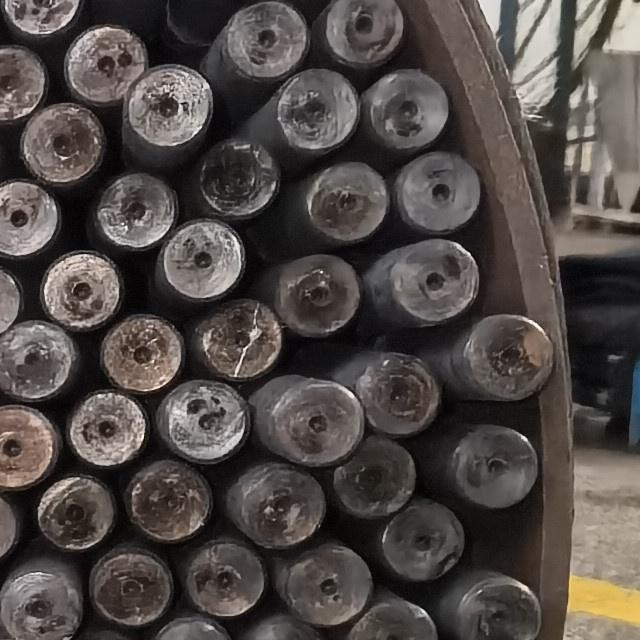tool: (415, 404, 538, 509), (441, 313, 559, 403), (252, 376, 364, 468), (362, 238, 477, 327), (217, 461, 326, 551), (144, 219, 246, 312), (123, 61, 214, 165), (270, 252, 376, 340), (258, 70, 362, 158), (207, 0, 310, 81), (156, 378, 252, 461), (279, 538, 373, 622), (300, 162, 394, 246), (187, 140, 283, 222), (120, 459, 212, 544), (190, 298, 284, 379), (81, 172, 177, 250), (30, 246, 121, 327), (376, 499, 464, 582), (18, 101, 106, 183), (439, 567, 540, 638), (177, 532, 265, 613), (395, 151, 483, 232), (357, 354, 442, 437), (29, 470, 115, 552), (328, 436, 413, 518), (64, 387, 152, 466), (90, 544, 172, 628), (98, 311, 184, 388), (4, 562, 88, 638), (0, 321, 77, 401), (370, 72, 449, 144), (332, 588, 437, 640), (321, 0, 407, 60), (72, 30, 140, 98), (0, 402, 55, 484), (0, 178, 58, 255), (0, 43, 45, 123), (158, 0, 230, 44), (0, 0, 75, 40), (230, 613, 326, 640), (140, 616, 233, 640), (0, 244, 22, 334), (1, 475, 20, 568)
